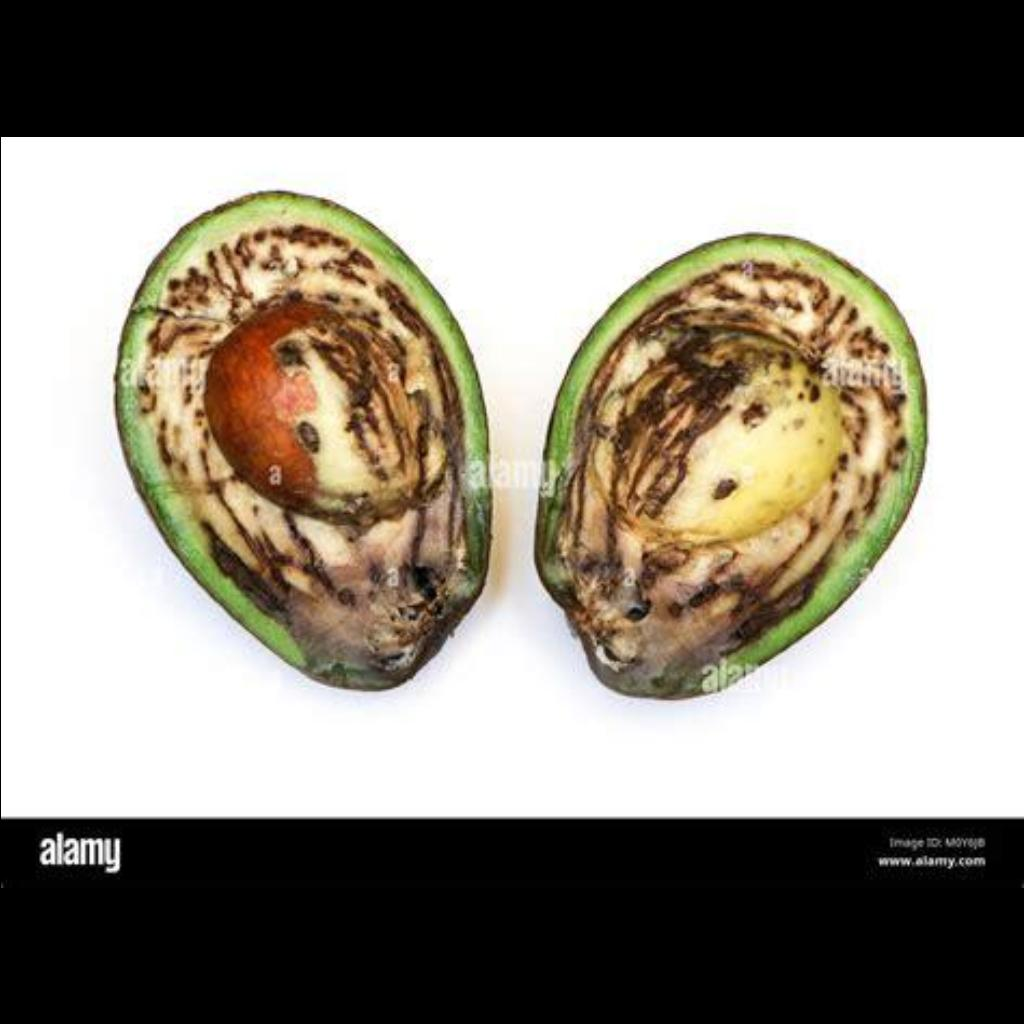Anthracnose: (117, 196, 495, 684), (566, 221, 862, 679)
